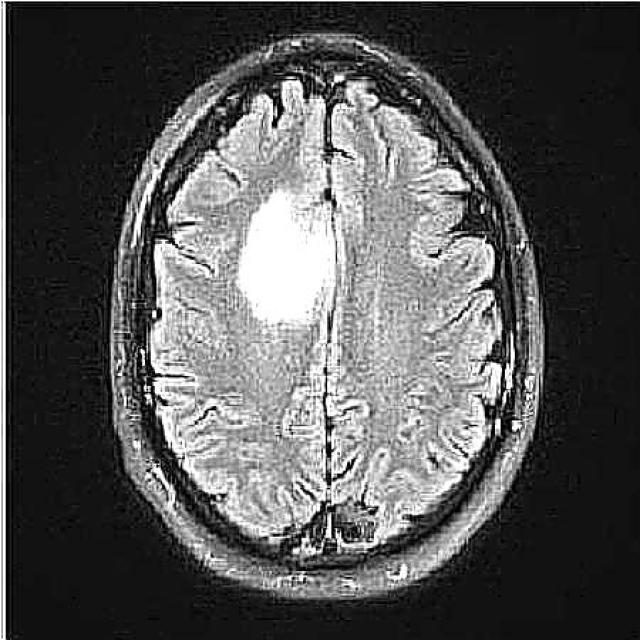Tumor-Cell: (234, 175, 369, 325), (265, 206, 358, 333)
